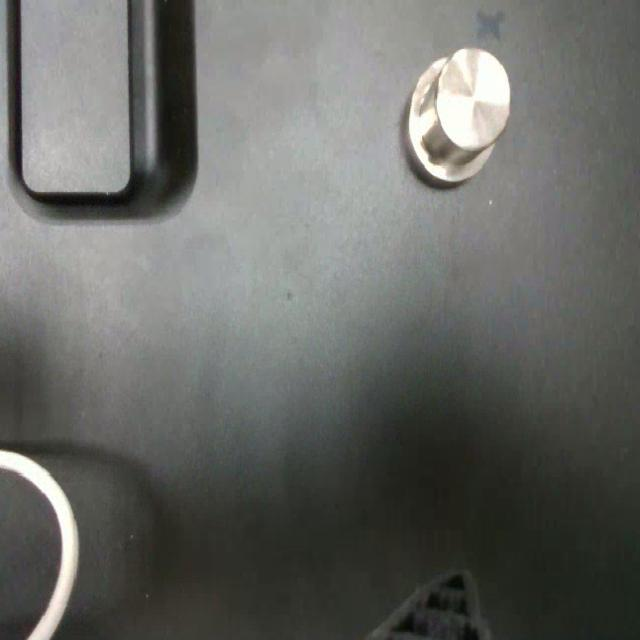sensor: (405, 46, 511, 184)
